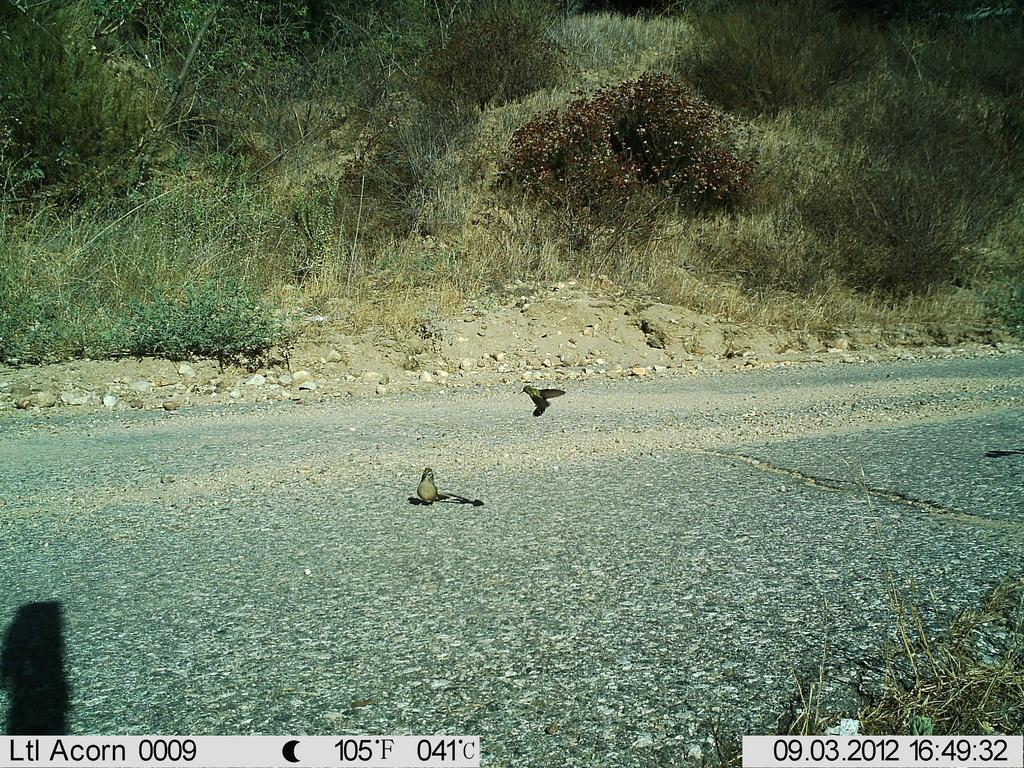bird: (515, 382, 575, 427), (412, 468, 453, 509)
